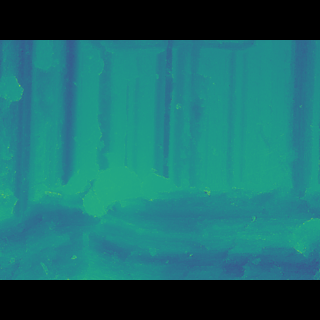Loch: (0, 160, 320, 251), (49, 70, 105, 189), (74, 69, 282, 98), (29, 69, 63, 94), (0, 97, 25, 116)
